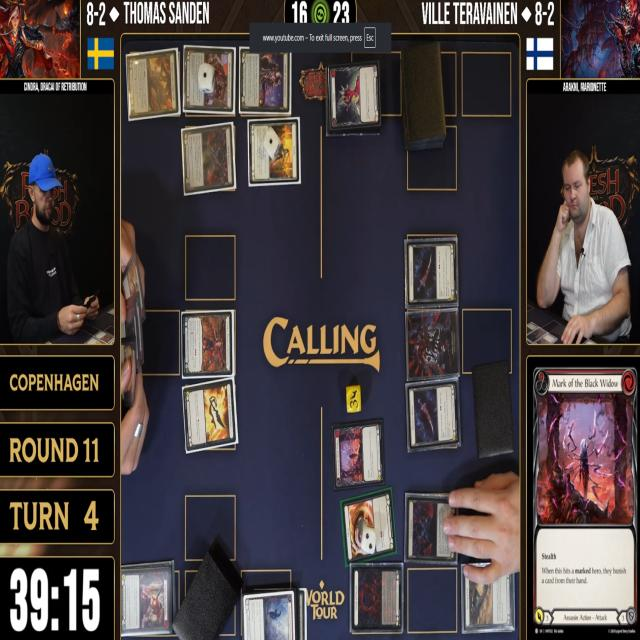DYN132: (328, 60, 382, 132)
EVR195: (339, 485, 398, 568)
HNT001: (402, 306, 462, 378)
HNT009: (405, 376, 462, 452), (403, 235, 460, 308)
HNT011: (348, 561, 405, 636)
HNT032: (331, 418, 386, 492)
HNT054: (180, 309, 236, 381)
HNT056: (180, 378, 240, 454)
HNT143: (124, 48, 181, 122)
HNT167: (246, 114, 302, 188)
HNT168: (182, 44, 236, 118)
HNT196: (462, 558, 517, 635)
OUT139: (180, 120, 237, 196), (404, 490, 459, 566)
UPR060: (121, 562, 175, 639)
WTR079: (238, 43, 293, 116)
WTR082: (242, 588, 296, 640)
